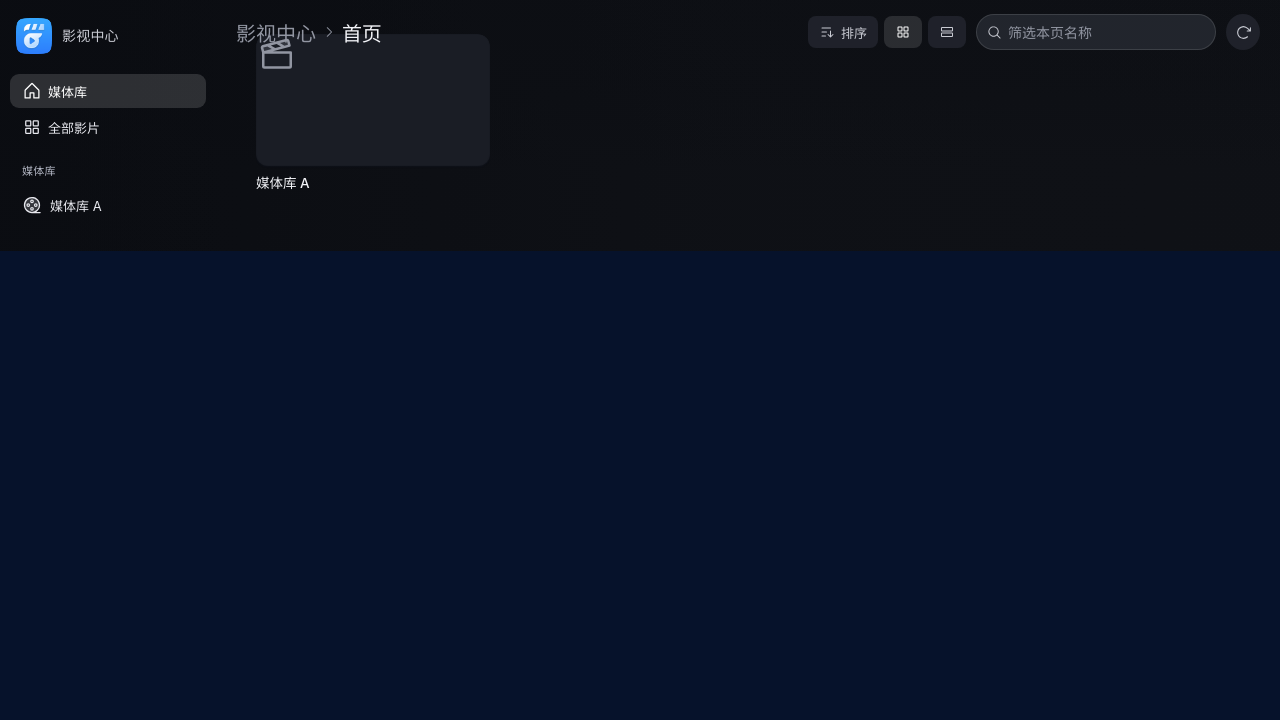
Scenario: 进入媒体库后可用「返回媒体库」回到上一级（aria-label 不变）
Click the button "媒体库 A" next to "首页". click: (373, 121)
box: [256,34,490,209]
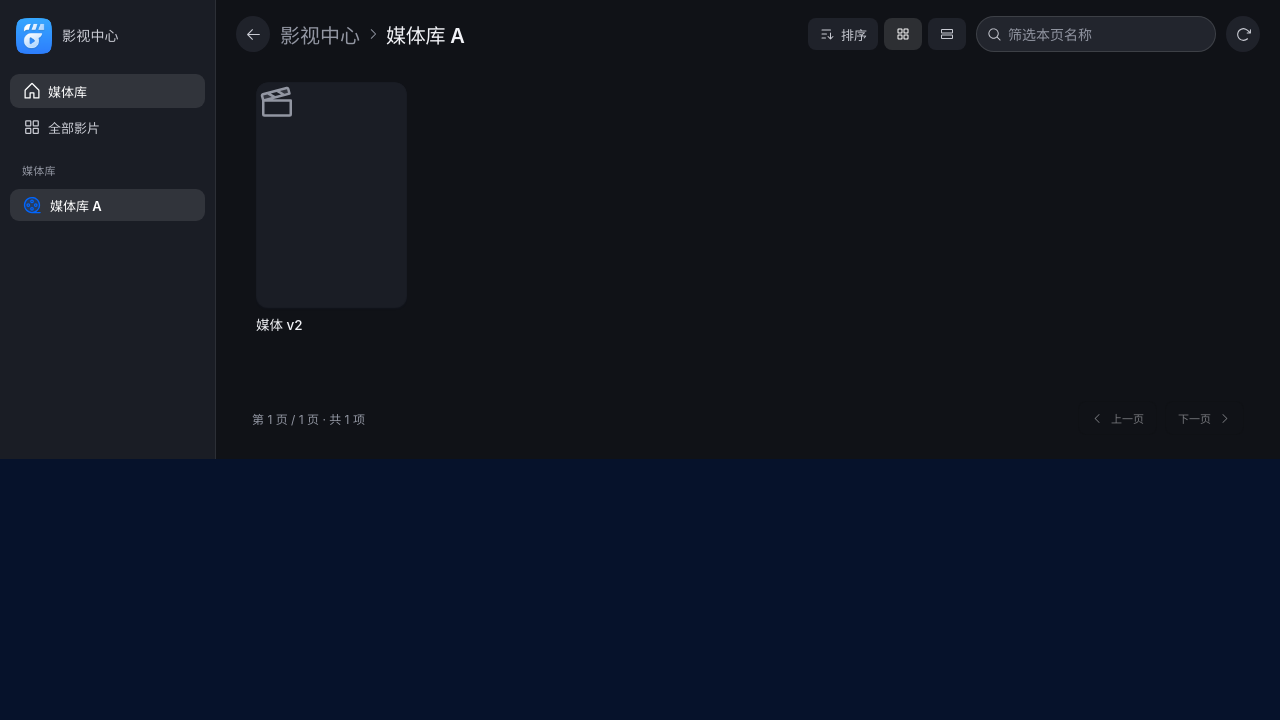
Expected: the text "媒体 v2" is shown, [256,316,303,334]
Click the button named "返回媒体库". click: (253, 34)
box: [236,16,270,52]
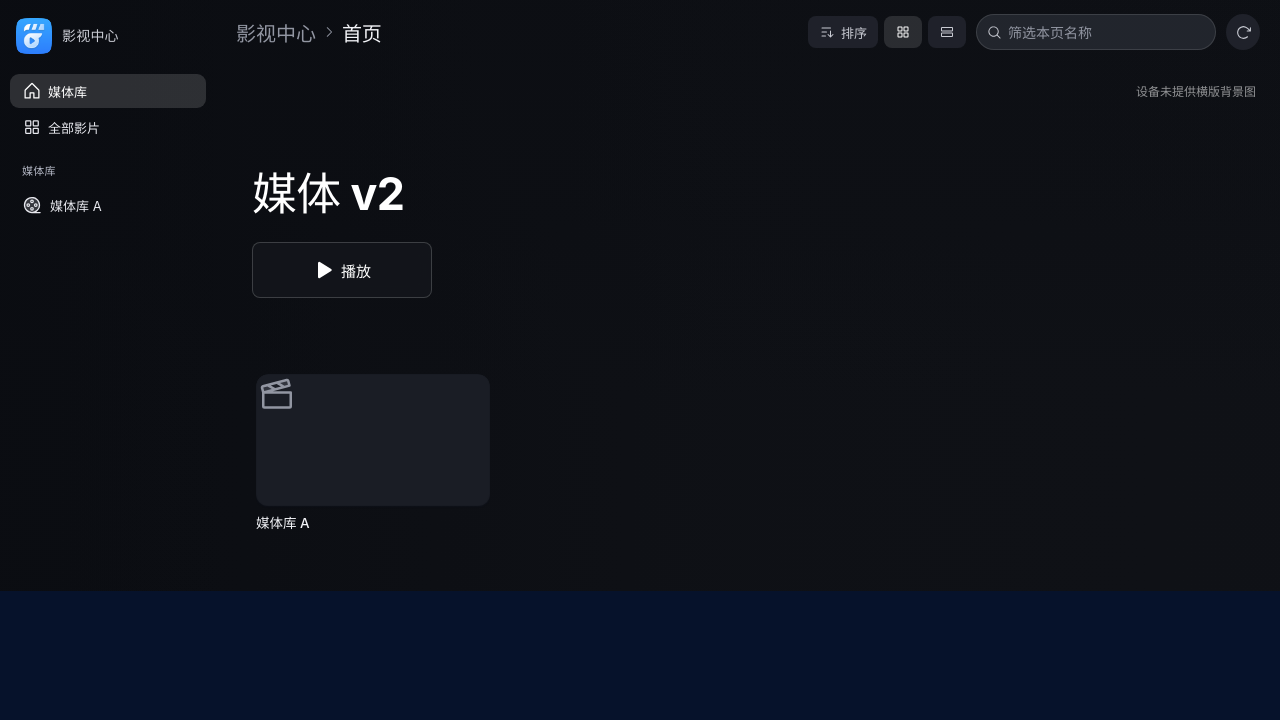
Expected: the button "返回媒体库" is gone
